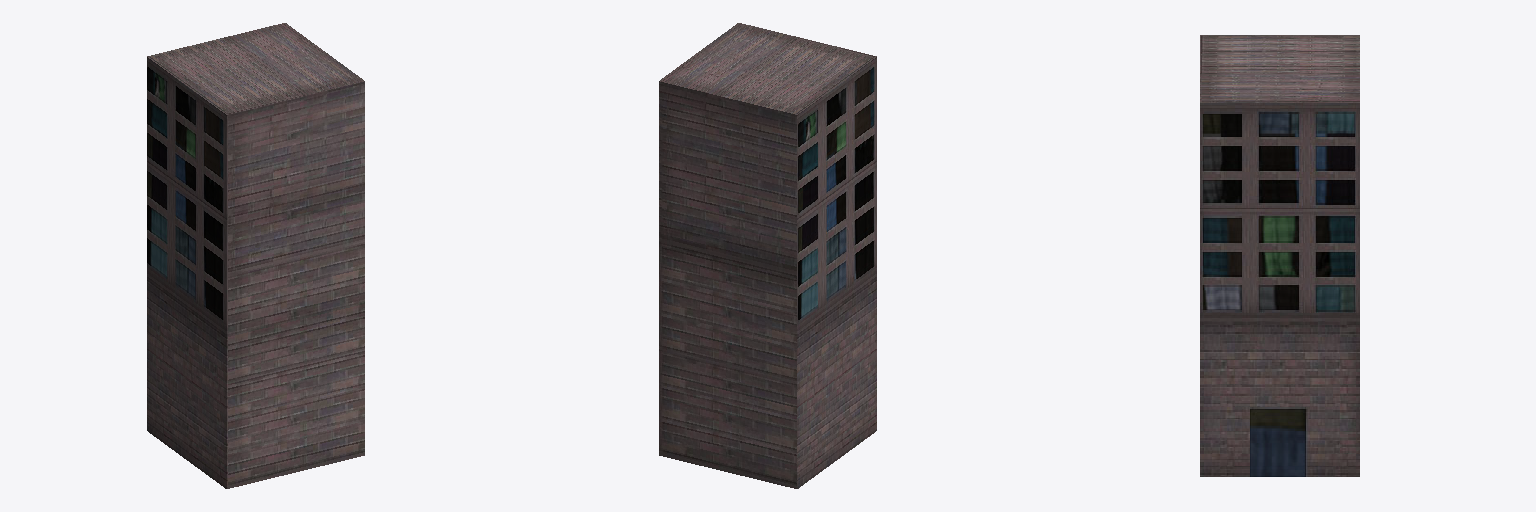
The picture shows the model from 3 angles: view 1: azimuth 30°, elevation 25°; view 2: azimuth 150°, elevation 25°; view 3: azimuth 270°, elevation 25°; orthographic projection.
Parts seen in each view (by area): view 1: Cube; view 2: Cube; view 3: Cube.
Part boxes in pixels (bbox=[...]): Cube: bbox=[147, 23, 364, 488]; Cube: bbox=[659, 23, 876, 488]; Cube: bbox=[1200, 35, 1359, 476].
Bounding box in the file's own units: 8.46 × 21.82 × 8.46.
1 materials, 1 textured.